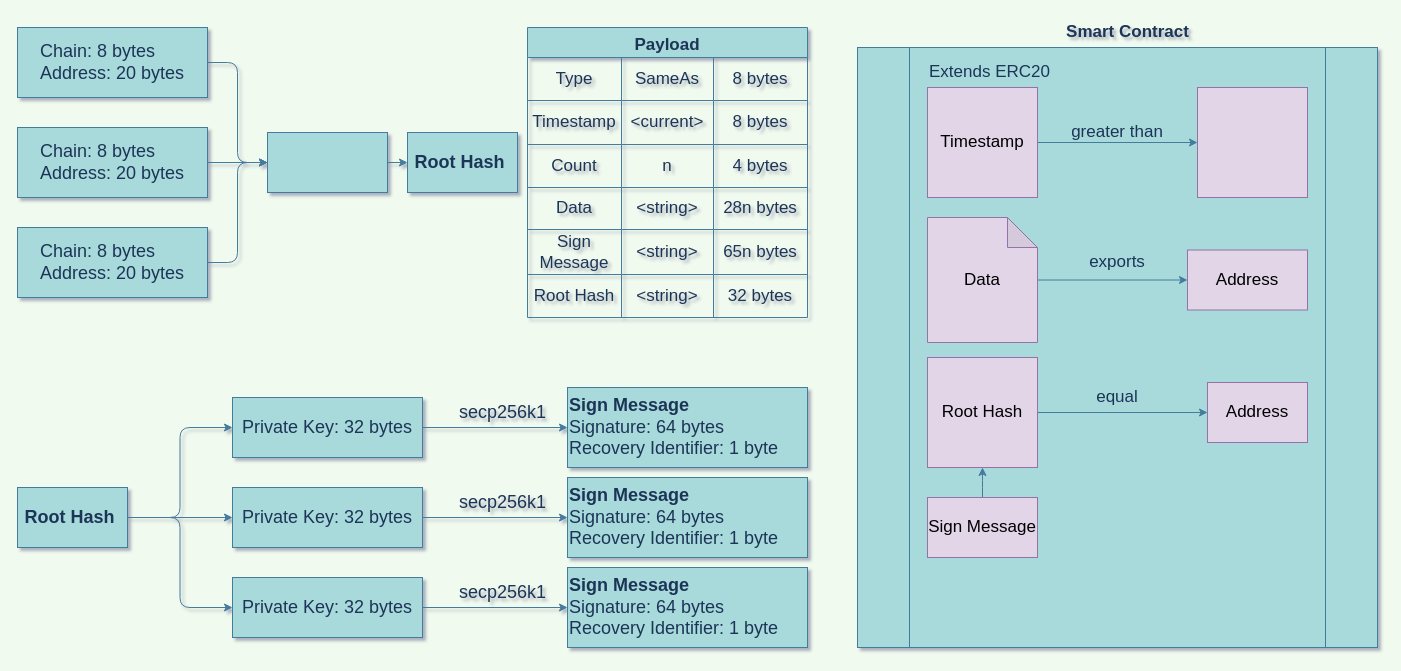
This 1401x671 diagram has some shape labels left out. The centre of each missing label's shape, as x and y in pixels:
"Merkle Tree (keccak256)" goes at pixel 327 162.
"now" goes at pixel 1252 142.
